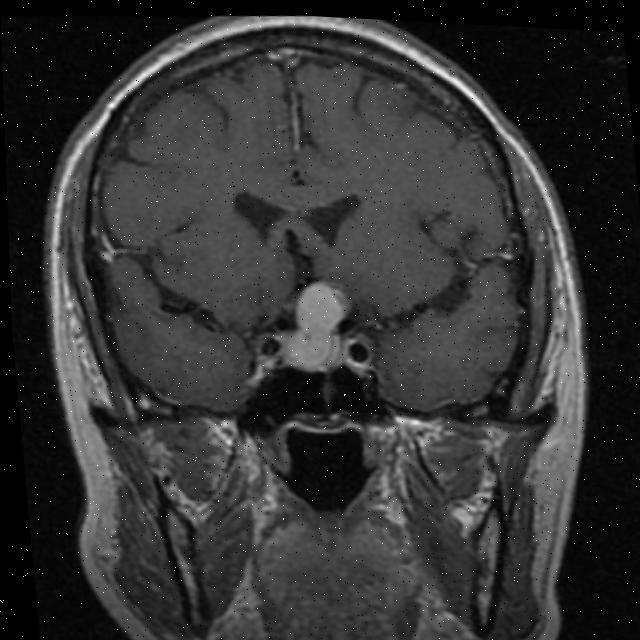Pituitary: (273, 277, 354, 377)
